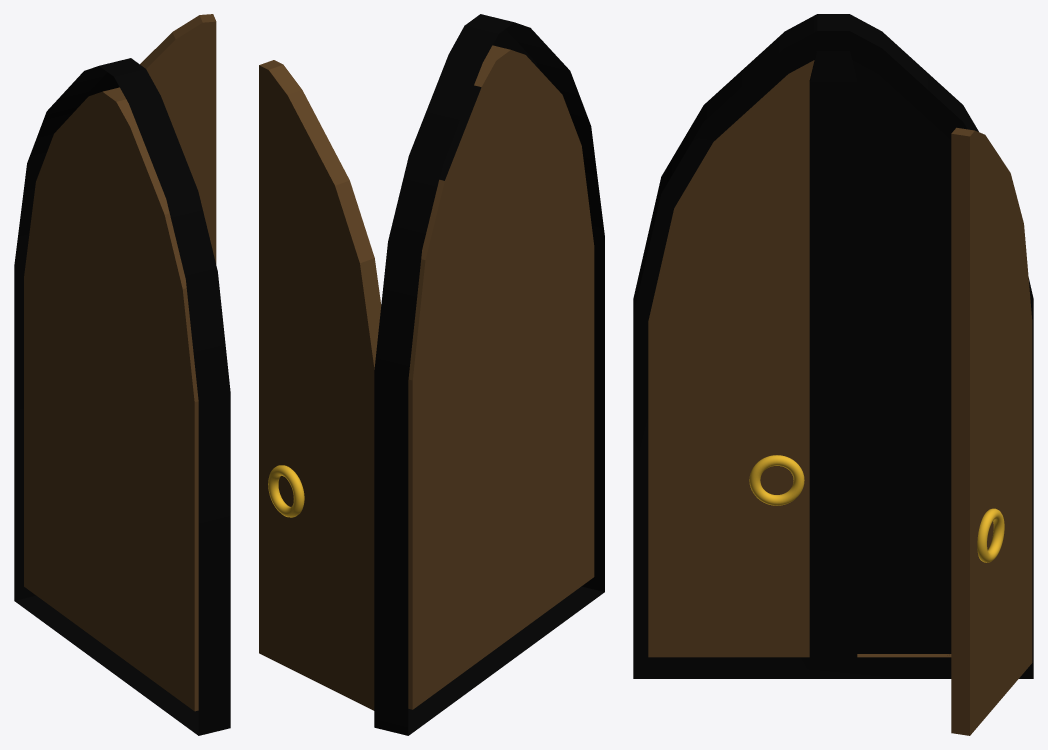
The model's file is dooropen.fbx.
The picture shows the model from 3 angles, left to right: view 1: azimuth 30°, elevation 25°; view 2: azimuth 150°, elevation 25°; view 3: azimuth 270°, elevation 25°; orthographic projection. The views are drawn at different scales.
Parts seen in each view (by area): view 1: Plane; view 2: Plane; view 3: Plane.
Part boxes in pixels (bbox=[...]): Plane: bbox=[14, 14, 230, 735]; Plane: bbox=[259, 14, 604, 735]; Plane: bbox=[633, 14, 1033, 735].
Size of the model in its own units: 115 by 386 by 216.
